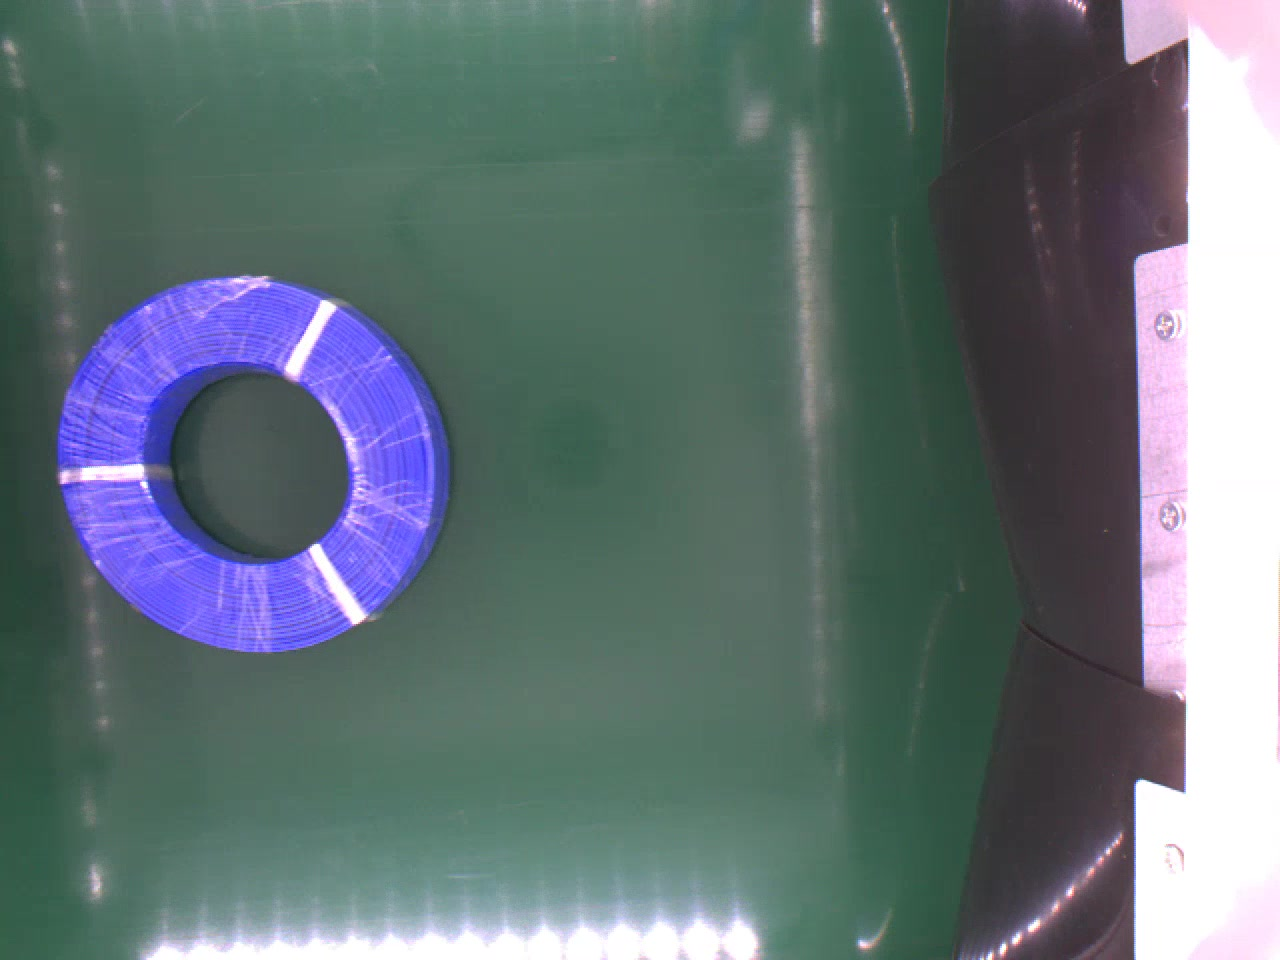blue: (60, 274, 450, 649)
